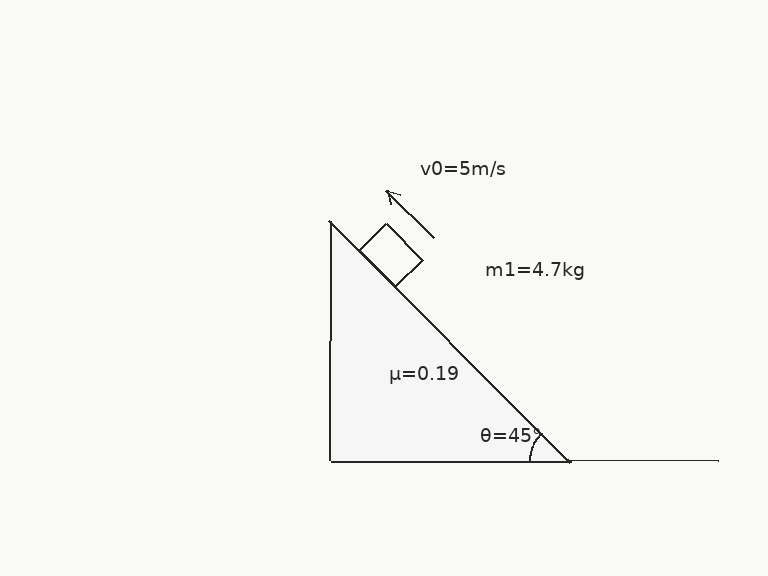block: (357, 221, 423, 288)
ramp: (328, 219, 572, 463)
